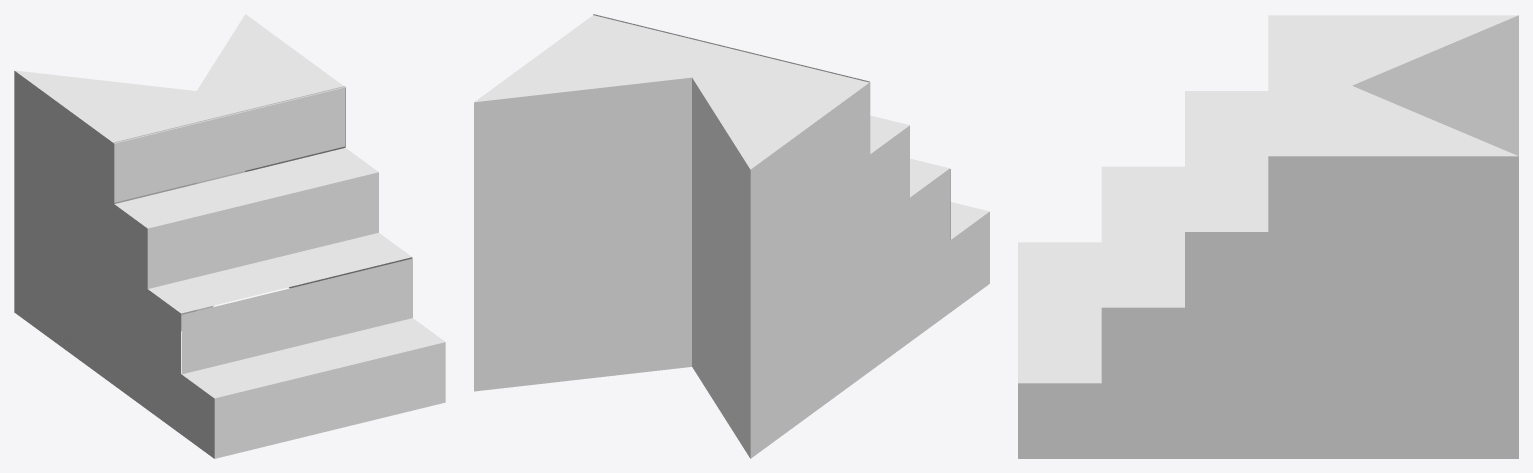
File: ring-steps.glb
3 renders of one model, left to right at view 1: azimuth 30°, elevation 25°; view 2: azimuth 150°, elevation 25°; view 3: azimuth 270°, elevation 25°, orthographic. The views are drawn at different scales.
Visible parts, largest first — view 1: ring-steps; view 2: ring-steps; view 3: ring-steps.
Part boxes in pixels (box(x1,y1,x2,y2)): ring-steps: box(14, 14, 445, 458); ring-steps: box(474, 14, 989, 458); ring-steps: box(1018, 15, 1518, 458).
Bounding box in the file's own units: 1.28 × 1.29 × 1.92.
Materials: 1 (1 with a texture image).
